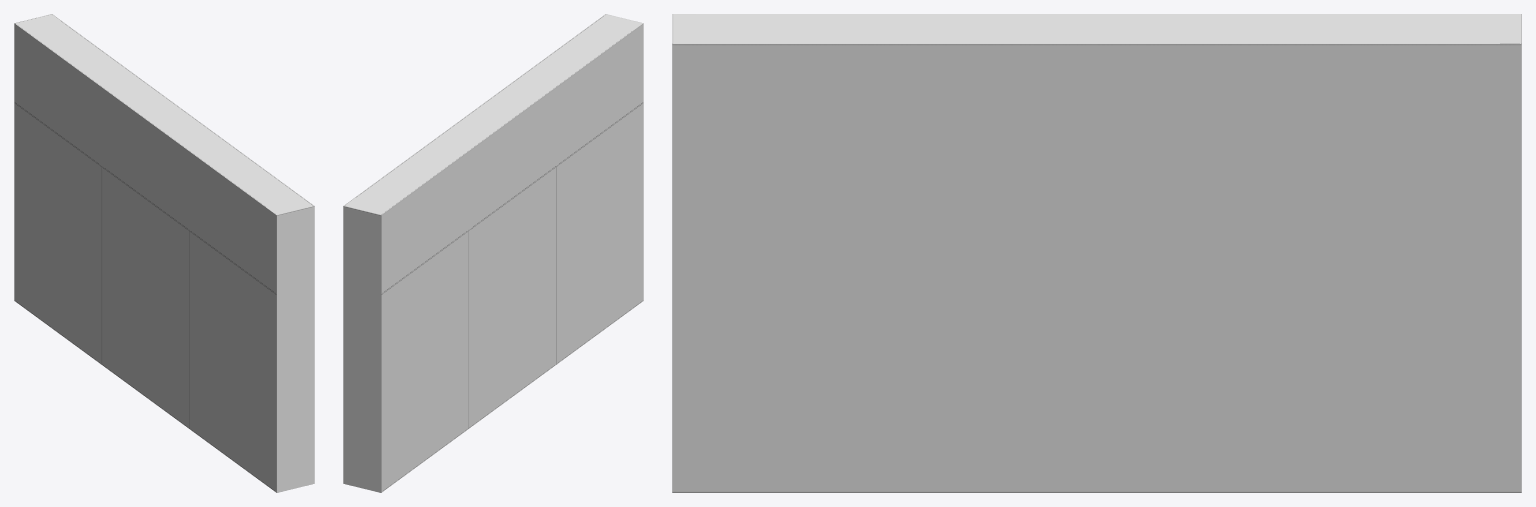
The model's file is Wall_Normal_02.FBX.
3 renders of one model, left to right at view 1: azimuth 30°, elevation 25°; view 2: azimuth 150°, elevation 25°; view 3: azimuth 270°, elevation 25°, orthographic. The views are drawn at different scales.
Parts seen in each view (by area): view 1: Wall_Normal_02; view 2: Wall_Normal_02; view 3: Wall_Normal_02.
Boxes of the visible parts, left/top/right/bottom form: Wall_Normal_02: left=14, top=14, right=314, bottom=492; Wall_Normal_02: left=343, top=14, right=643, bottom=492; Wall_Normal_02: left=672, top=14, right=1521, bottom=492.
Size of the model in its own units: 1 by 7 by 12.
